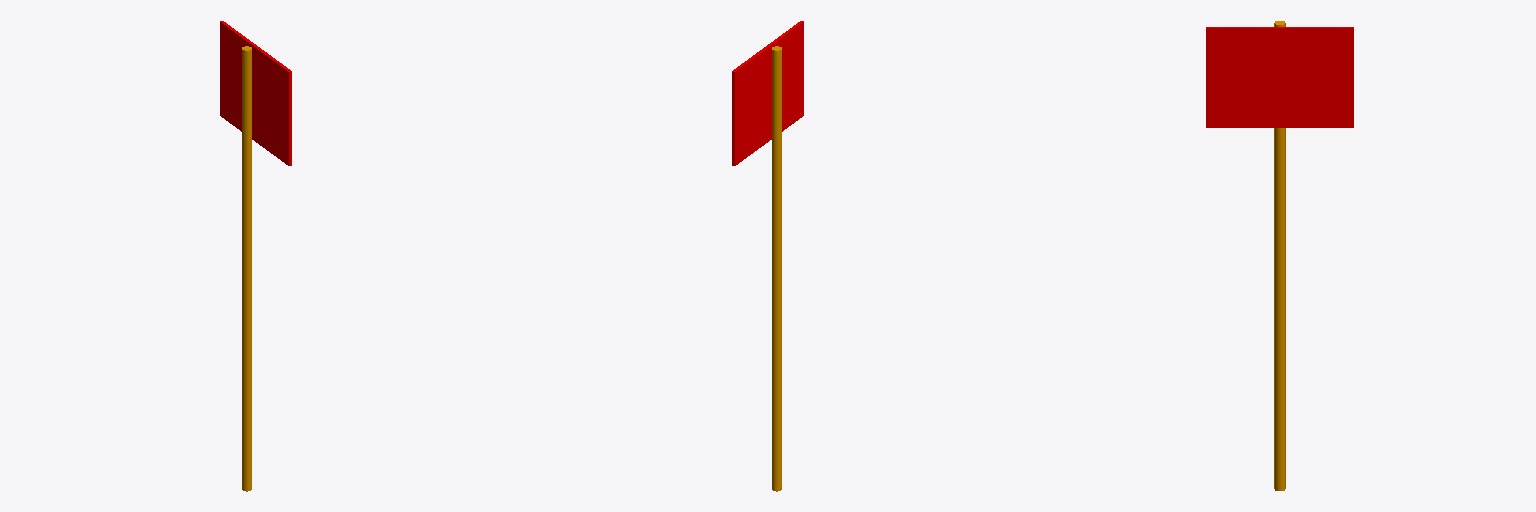
URDF robot description (placard):
<robot name="placard">
  <link name="placard">
    <inertial>
      <mass value="5"/>
      <origin xyz="0 0 0" rpy="0 0 0"/>
      <inertia ixx="0.01" ixy="0" ixz="0" iyy="0.01" iyz="0" izz="1"/>
    </inertial>
    <visual>
      <geometry>
	<cylinder length="1.4" radius="0.015" />
      </geometry>
    </visual>
    <collision>
      <geometry>
	<cylinder length="1.4" radius="0.015" />
      </geometry>
    </collision>
    <visual>
      <geometry>
	<box size="0.01 0.4 0.3" />
      </geometry>
      <origin xyz="0.03 0.0 0.55" />
      <material name="red">
	<color rgba="1.0 0.0 0.0 1.0"/>
      </material>
    </visual>
  </link>
  <link name="base_link">
  </link>
  <link name="ltx">
  </link>
  <link name="lty">
  </link>
  <link name="ltz">
  </link>
  <joint name="tx" type="prismatic">
    <limit effort="10" velocity="1" lower="-1" upper="1"/>
    <axis xyz="1 0 0"/>
    <parent link="base_link"/>
    <child link="ltx"/>
  </joint>
  <joint name="ty" type="prismatic">
    <limit effort="10" velocity="1" lower="-1" upper="1"/>
    <axis xyz="0 1 0"/>
    <parent link="ltx"/>
    <child link="lty"/>
  </joint>
  <joint name="tz" type="prismatic">
    <limit effort="10" velocity="1" lower="0" upper="2"/>
    <axis xyz="0 0 1"/>
    <parent link="lty"/>
    <child link="ltz"/>
  </joint>
  <joint name="rz" type="revolute">
    <limit effort="10" velocity="1" lower="-1" upper="4"/>
    <axis xyz="0 0 1"/>
    <parent link="ltz"/>
    <child link="placard"/>
  </joint>
</robot>

--- Facts derived from the render (not from the file) ---
The picture shows the robot from 3 angles, left to right: view 1: azimuth 30°, elevation 25°; view 2: azimuth 150°, elevation 25°; view 3: azimuth 270°, elevation 25°; orthographic projection.
Model placard with 5 links and 4 joints (1 revolute, 3 prismatic), rooted at base_link, posed every joint at zero.
Links seen in each view (by area): view 1: placard; view 2: placard; view 3: placard.
Boxes of the visible links, x1,y1,x2,y2 form: placard: (220, 21, 291, 491); placard: (732, 21, 803, 491); placard: (1206, 21, 1353, 490).
Size in the robot's own frame: 0.05 by 0.4 by 1.4 metres.
Geometry: primitives only (box / cylinder / sphere), no mesh files.